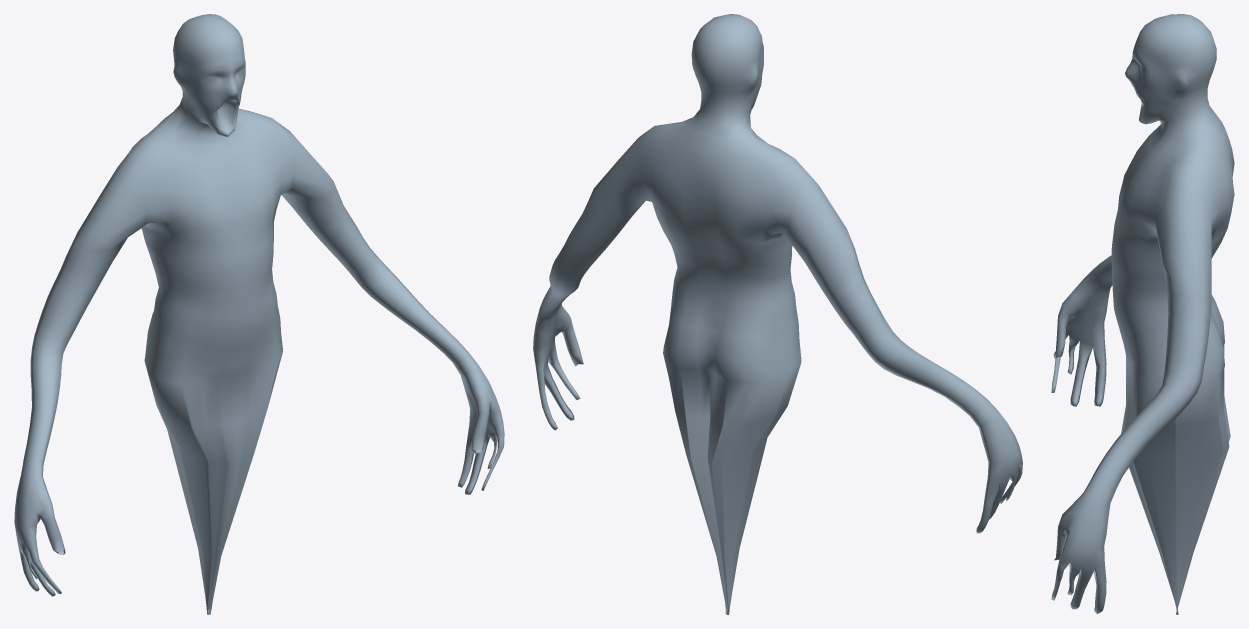
Rendered from fantome_Light.fbx.
The picture shows the model from 3 angles, left to right: view 1: azimuth 30°, elevation 25°; view 2: azimuth 150°, elevation 25°; view 3: azimuth 270°, elevation 25°; orthographic projection.
Visible parts, largest first — view 1: humanBody2; view 2: humanBody2; view 3: humanBody2.
Boxes of the visible parts, x1=… form: humanBody2: x1=14, y1=14, x2=504, y2=614; humanBody2: x1=533, y1=14, x2=1022, y2=614; humanBody2: x1=1051, y1=14, x2=1234, y2=614.
Size of the model in its own units: 134 by 159 by 44.27.
